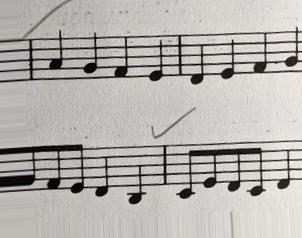A: (46, 27, 66, 88)
D: (187, 30, 207, 87), (92, 144, 111, 199), (273, 137, 292, 192)
E: (218, 30, 238, 82), (148, 32, 166, 84)
F: (112, 33, 130, 87), (252, 29, 269, 80)
G: (80, 28, 99, 87), (281, 24, 300, 77)
